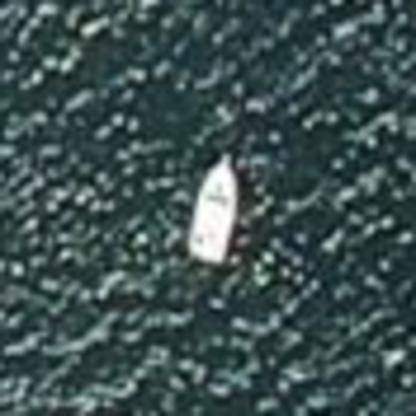ship: (175, 143, 248, 271)
